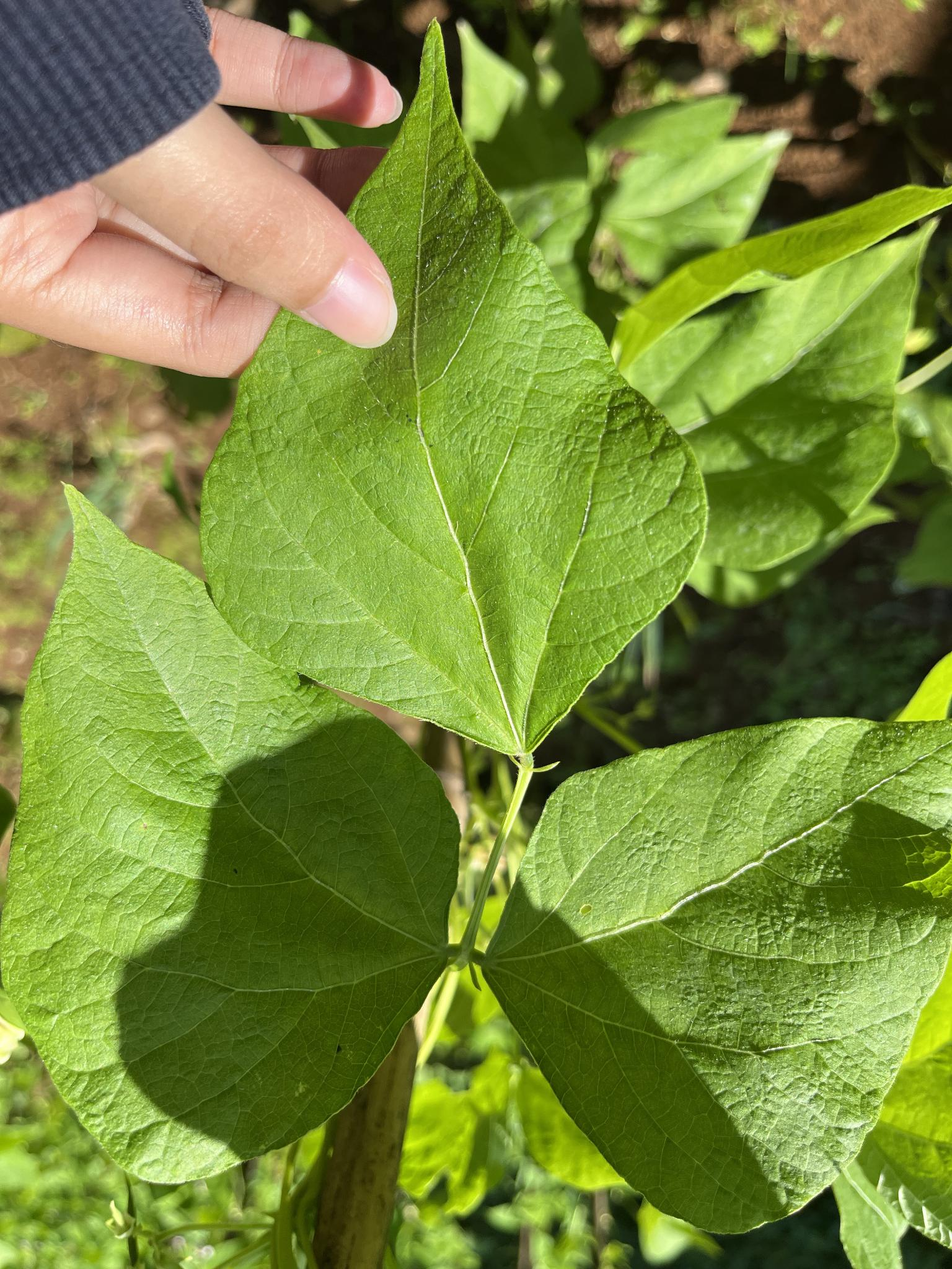sehat: (205, 16, 721, 755)
